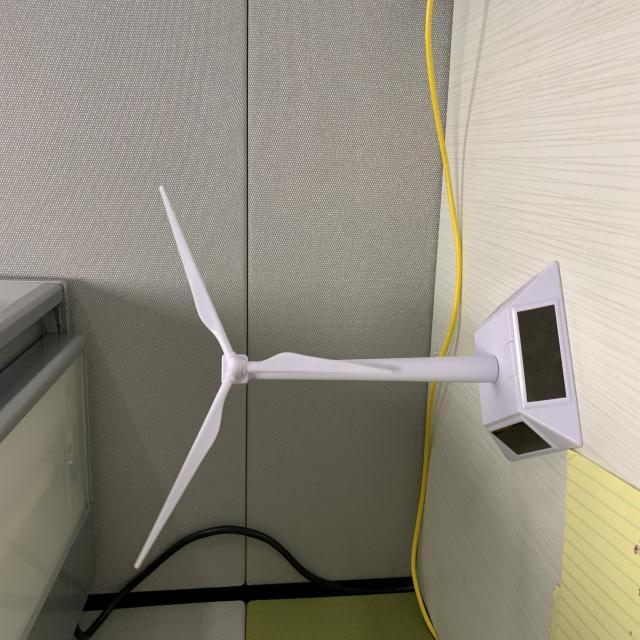solid-blade: (135, 380, 232, 568), (159, 186, 234, 354)
